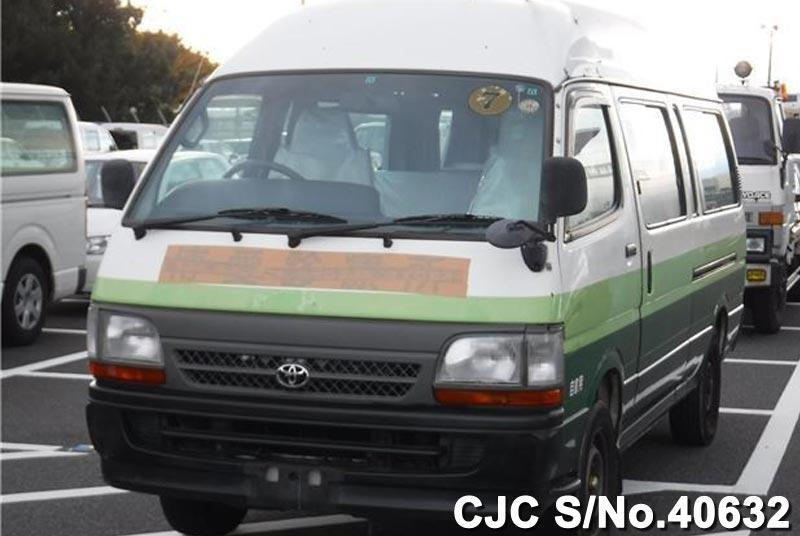van: (92, 7, 773, 501)
